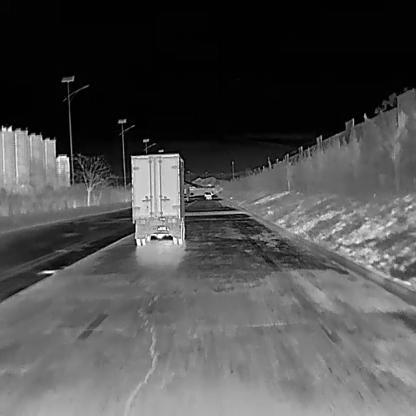car: (130, 152, 189, 245), (205, 190, 211, 199), (189, 191, 195, 196)
